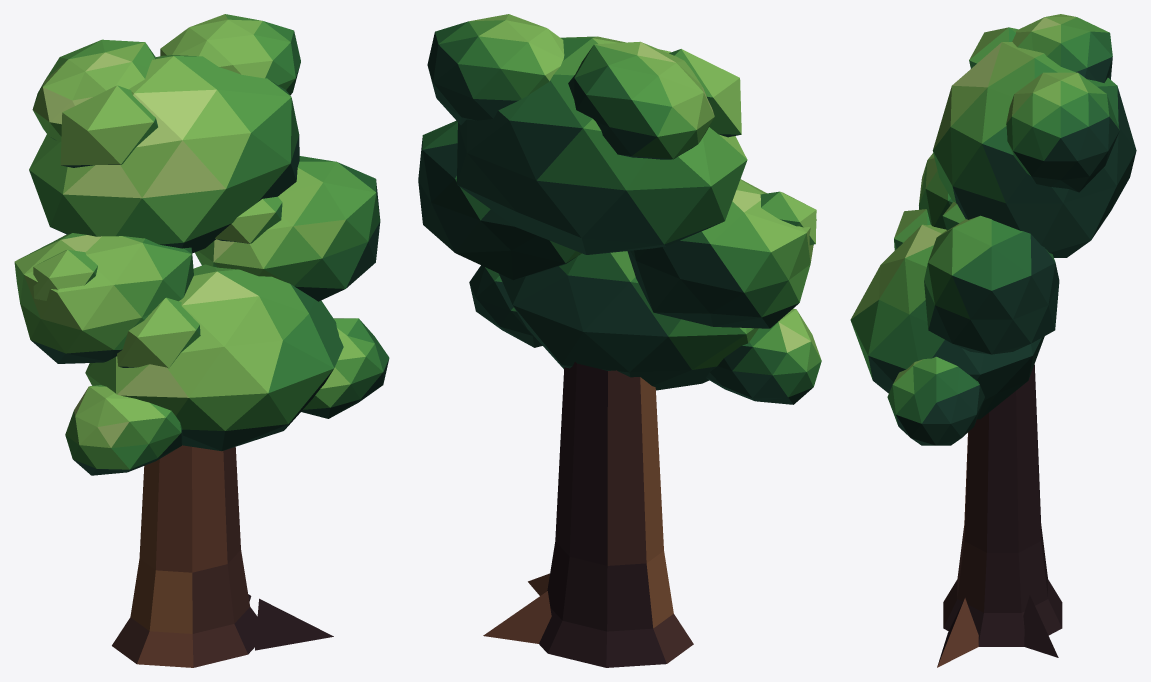
The model's file is tree_tree3.glb.
3 views of the same model, side by side, from view 1: azimuth 30°, elevation 25°; view 2: azimuth 150°, elevation 25°; view 3: azimuth 270°, elevation 25° (orthographic). The views are drawn at different scales.
Parts seen in each view (by area): view 1: tree3; view 2: tree3; view 3: tree3.
Part boxes in pixels (<box>): tree3: <box>14,14,389,667</box>; tree3: <box>418,14,821,667</box>; tree3: <box>850,14,1136,667</box>.
Bounding box in the file's own units: 0.9629 × 1.5 × 0.688.
